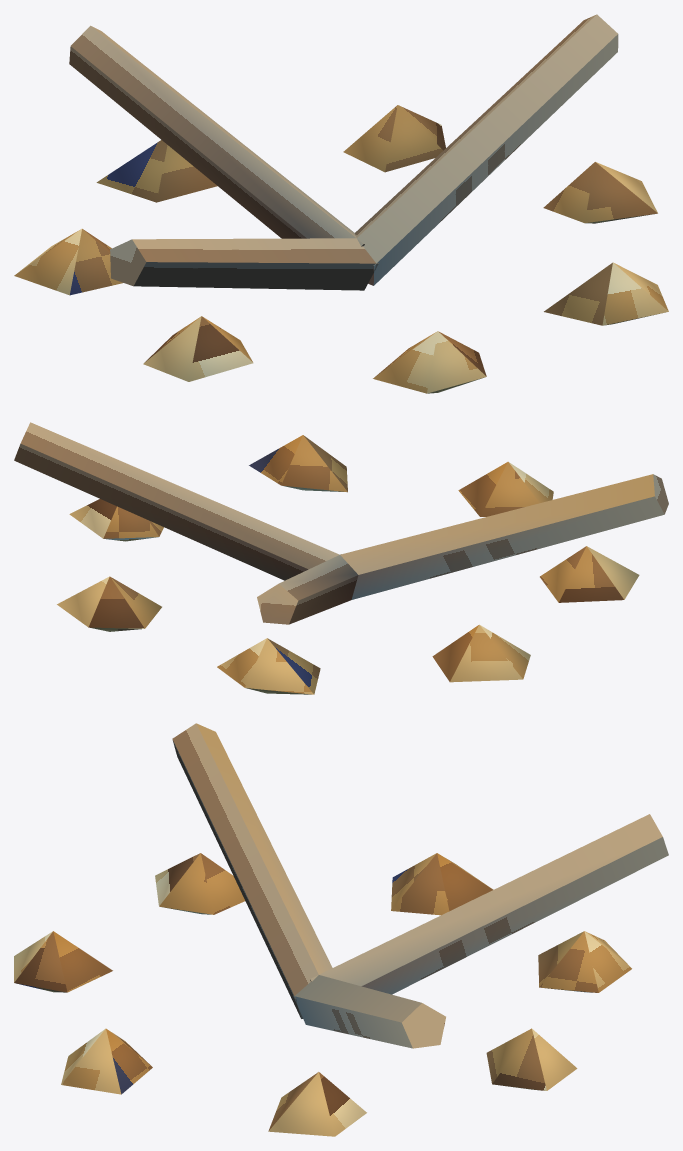
File: wprop.campfire__cold.glb
3 views of the same model, one above another, from view 1: azimuth 30°, elevation 25°; view 2: azimuth 150°, elevation 25°; view 3: azimuth 270°, elevation 25° (orthographic). The views are drawn at different scales.
Parts seen in each view (by area): view 1: kit_logs, kit_stones; view 2: kit_logs, kit_stones; view 3: kit_logs, kit_stones.
Part boxes in pixels (left/top/right/bottom): kit_logs: left=69, top=14, right=618, bottom=290; kit_stones: left=14, top=105, right=668, bottom=393; kit_logs: left=14, top=422, right=668, bottom=624; kit_stones: left=57, top=435, right=639, bottom=694; kit_logs: left=172, top=723, right=668, bottom=1048; kit_stones: left=14, top=853, right=631, bottom=1136.
Size of the model in its own units: 1.28 by 0.3203 by 1.2.
2 materials, 2 textured.
